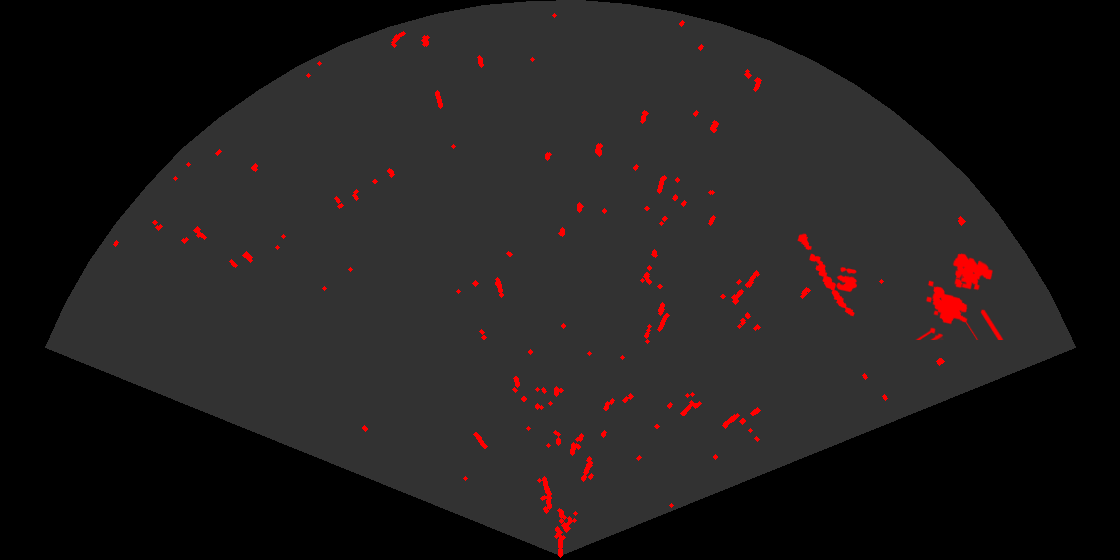ball: (834, 265, 859, 294)
cage: (914, 252, 1005, 340)
chain: (796, 232, 856, 318)
